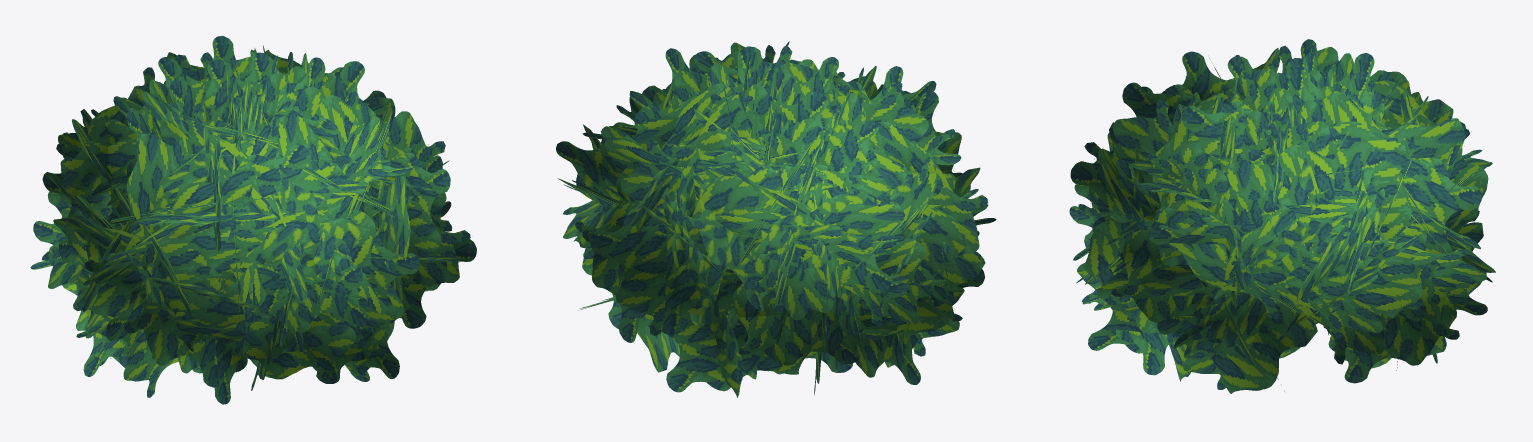
Rendered from arbusto.fbx.
The picture shows the model from 3 angles, left to right: view 1: azimuth 30°, elevation 25°; view 2: azimuth 150°, elevation 25°; view 3: azimuth 270°, elevation 25°; orthographic projection.
Parts seen in each view (by area): view 1: bush; view 2: bush; view 3: bush.
Part boxes in pixels (x1=…): bush: x1=30, y1=35, x2=476, y2=404; bush: x1=556, y1=41, x2=996, y2=397; bush: x1=1069, y1=39, x2=1495, y2=393.
Size of the model in its own units: 246 by 188 by 237.
Materials: 1 (1 with a texture image).
